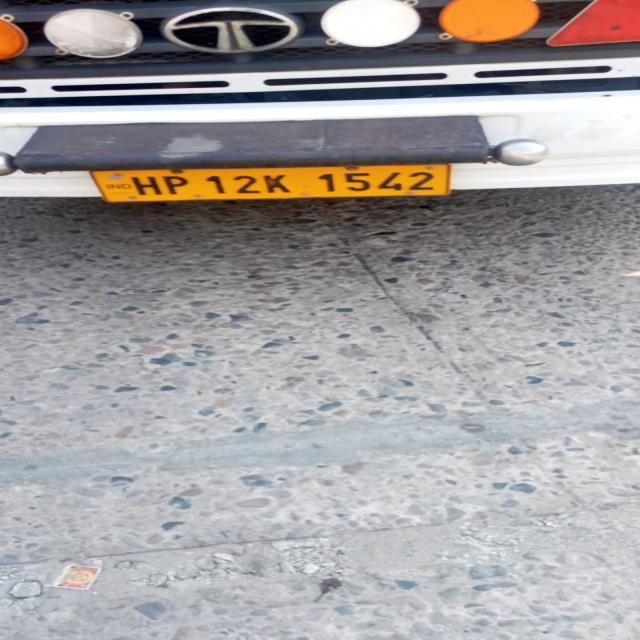License-plate: (107, 161, 446, 212)
